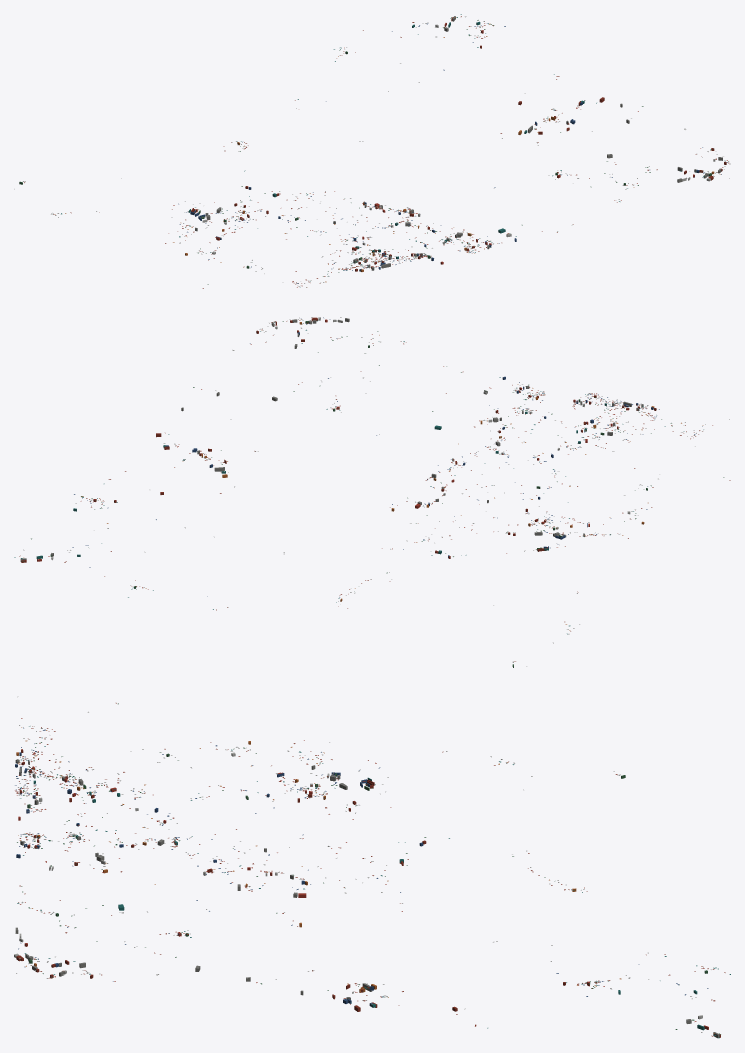
Rendered from far-13-6840-3715.558a72d6.glb.
3 views of the same model, one above another, from view 1: azimuth 30°, elevation 25°; view 2: azimuth 150°, elevation 25°; view 3: azimuth 270°, elevation 25° (orthographic). The views are drawn at different scales.
Size of the model in its own units: 4705 by 748 by 4671.
